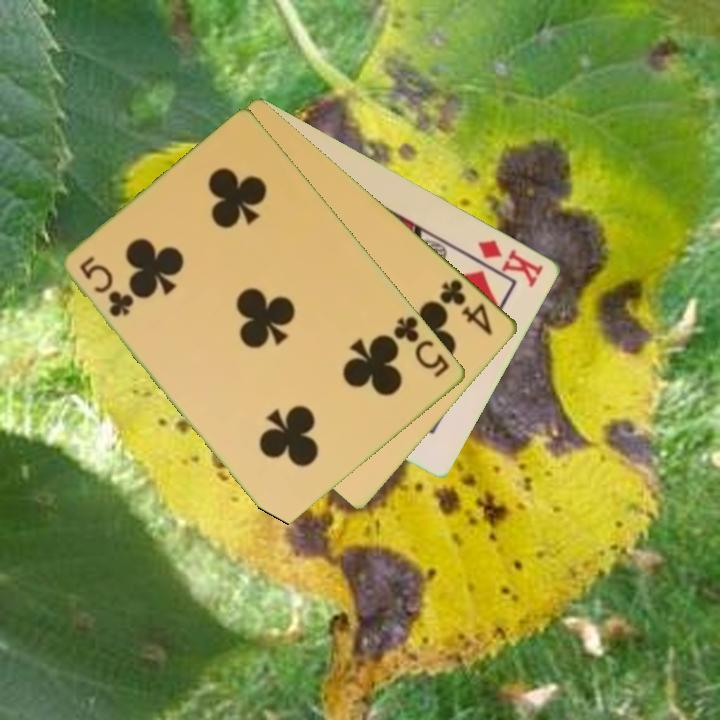4c: (436, 275, 497, 339)
5c: (390, 312, 453, 381), (76, 252, 137, 321)
Kd: (475, 236, 547, 290)
